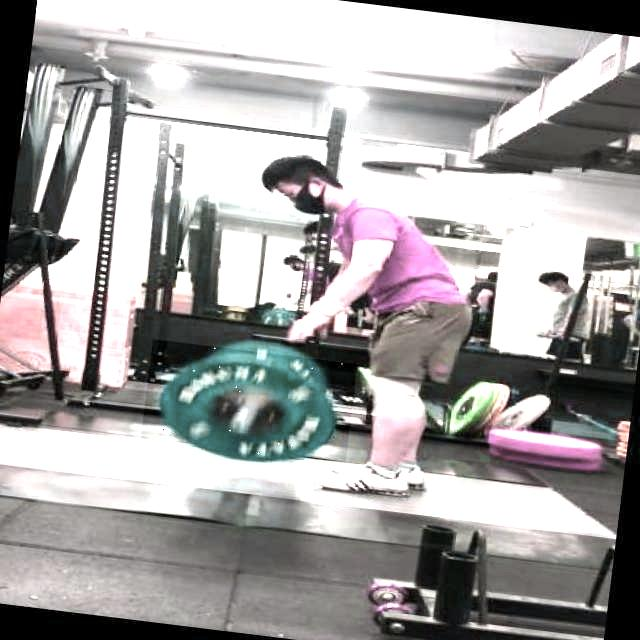barbell: (140, 340, 357, 477)
